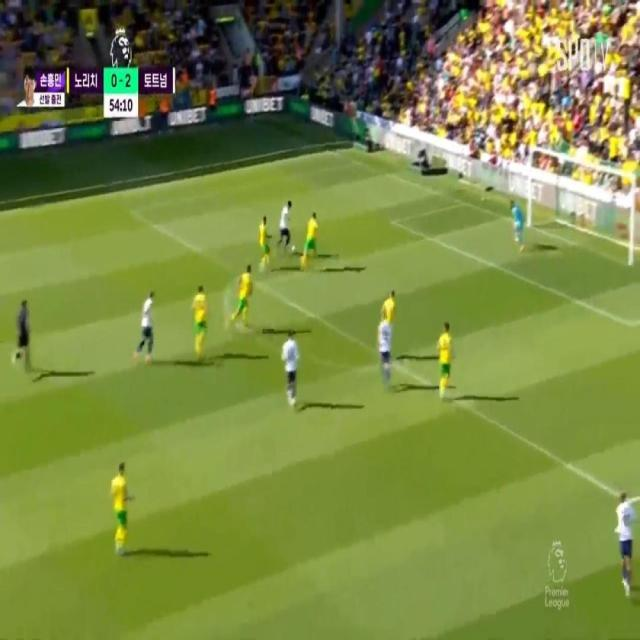ball: (289, 235, 299, 262)
goalkeeper: (503, 194, 529, 264)
player: (615, 481, 639, 593), (112, 461, 126, 556), (439, 316, 455, 397), (286, 320, 300, 411), (137, 290, 153, 359), (194, 289, 208, 357), (302, 214, 318, 271), (280, 195, 294, 255), (237, 263, 251, 320), (379, 309, 389, 376), (382, 286, 395, 330), (261, 214, 270, 261)
referee: (17, 292, 33, 375)
